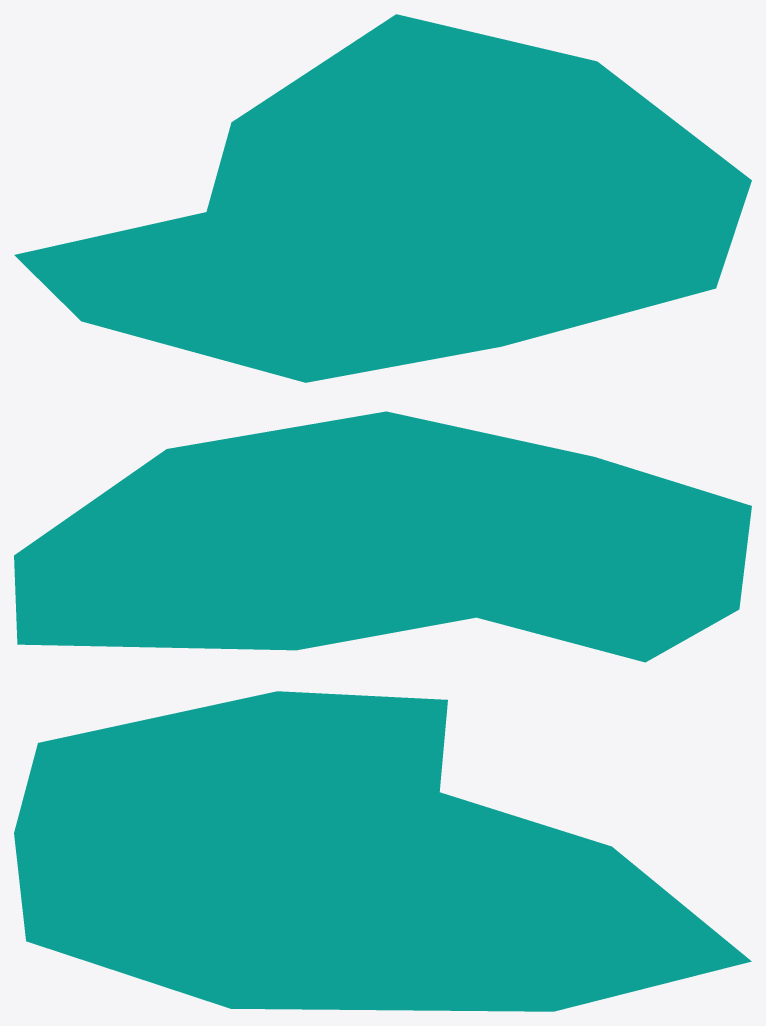
File: SM_SoloLeaf02.fbx
The picture shows the model from 3 angles, top to bottom: view 1: azimuth 30°, elevation 25°; view 2: azimuth 150°, elevation 25°; view 3: azimuth 270°, elevation 25°; orthographic projection. The views are drawn at different scales.
Visible parts, largest first — view 1: Plane058; view 2: Plane058; view 3: Plane058.
Boxes of the visible parts, x1,y1,x2,y2 form: Plane058: (14,14,751,382); Plane058: (14,411,751,662); Plane058: (14,691,751,1011).
Size of the model in its own units: 8.25 by 3.51e-07 by 8.03.
